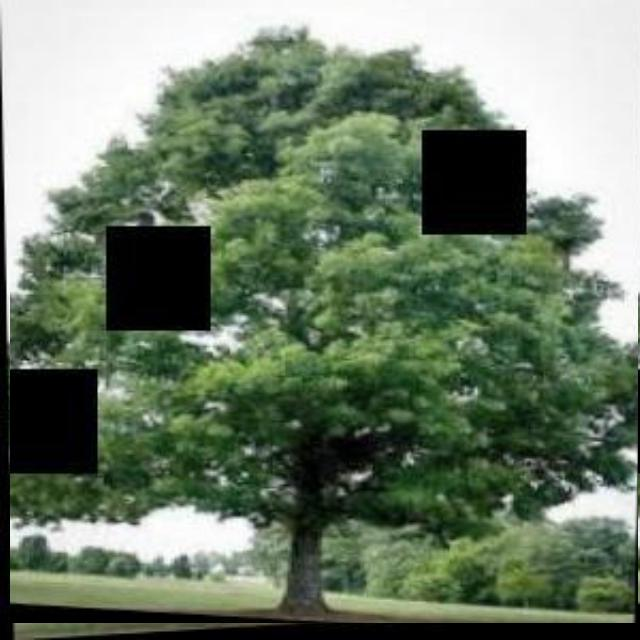tree: (10, 9, 638, 623)
